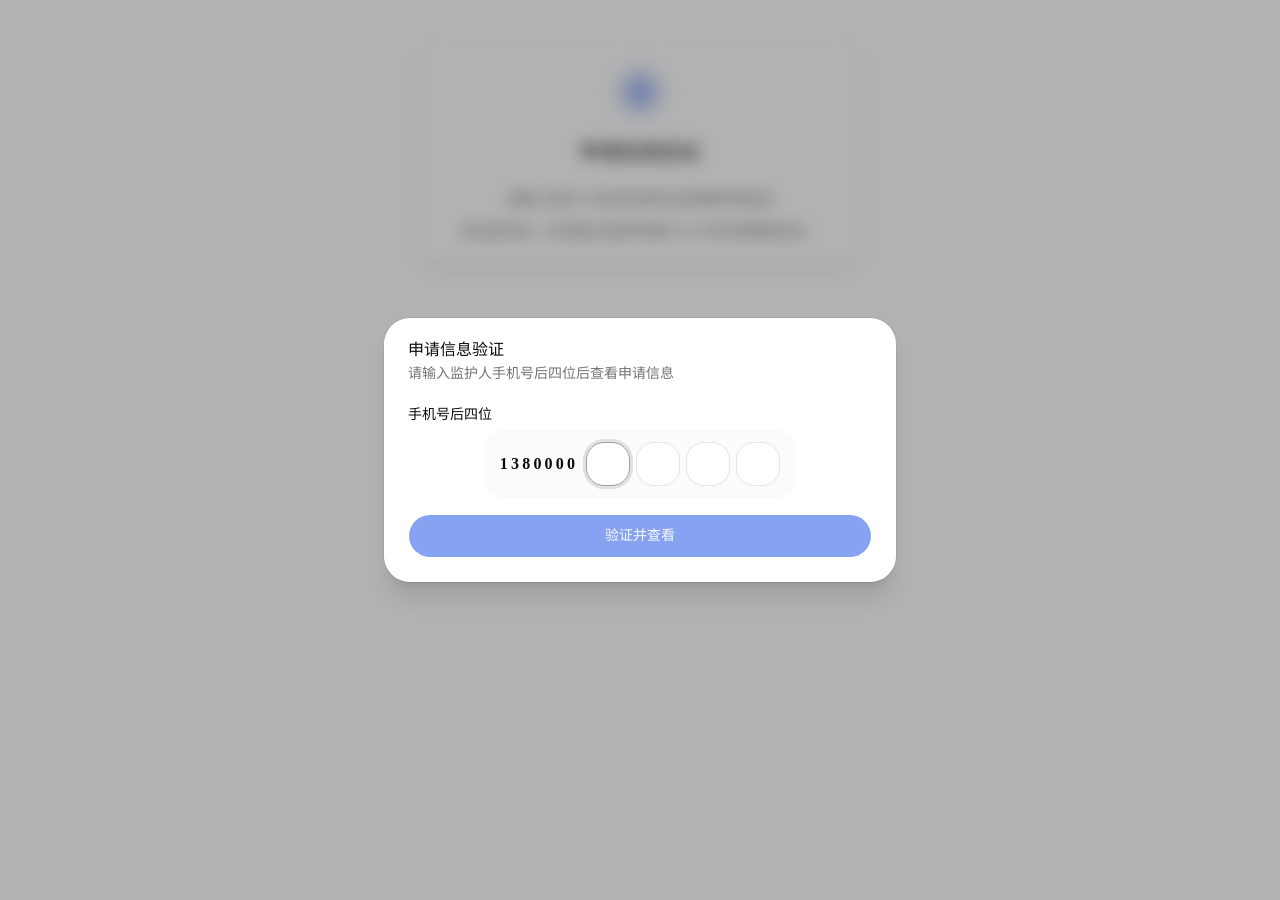
application access guard › enters a locked state after the server reports lockout
The image size is (1280, 900).
Type "0" into the field named "手机号后四位第 1 位".
click(608, 464); type("0")  # box [586, 442, 630, 486]
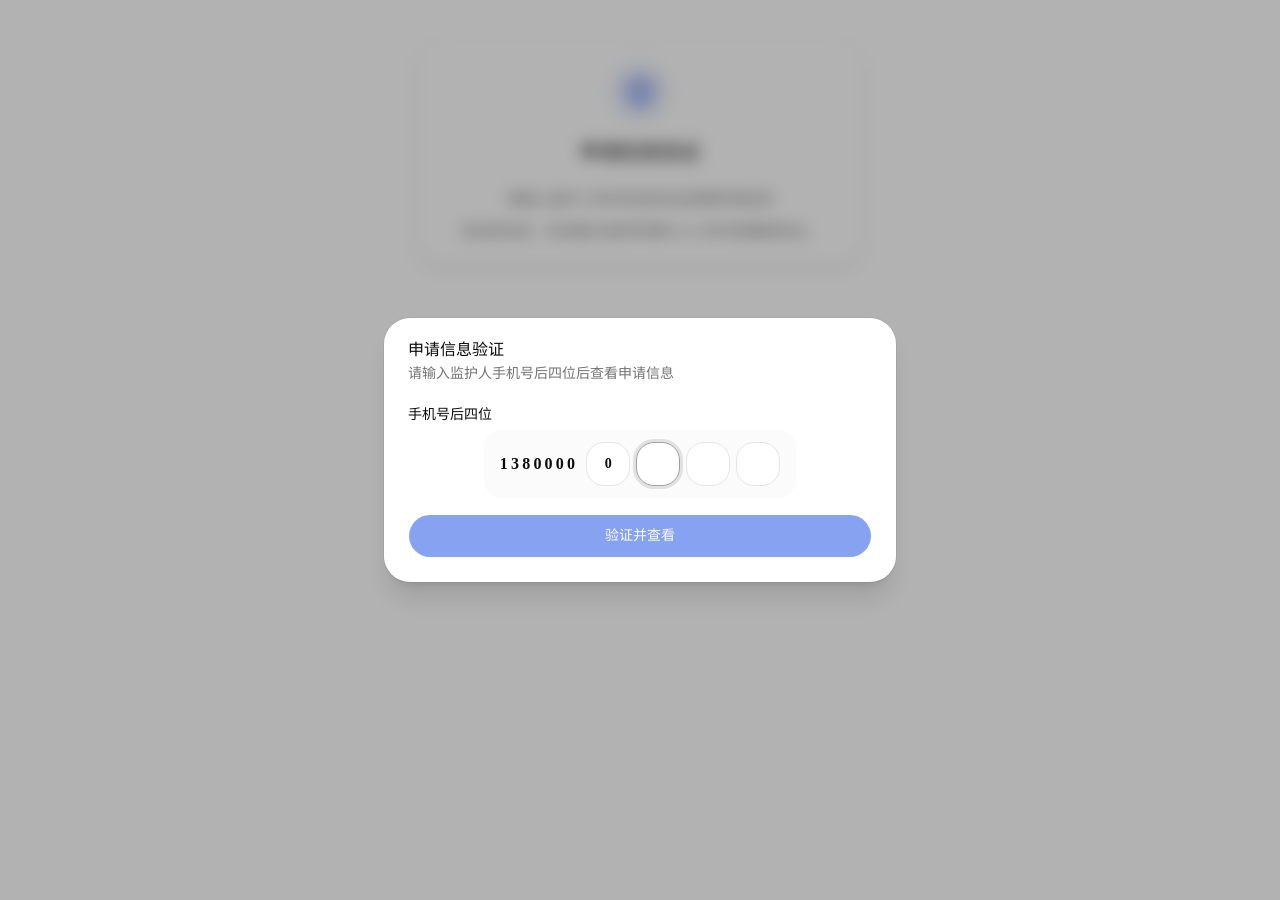
Type "0" into the field named "手机号后四位第 2 位".
click(658, 464); type("0")  # box [636, 442, 680, 486]
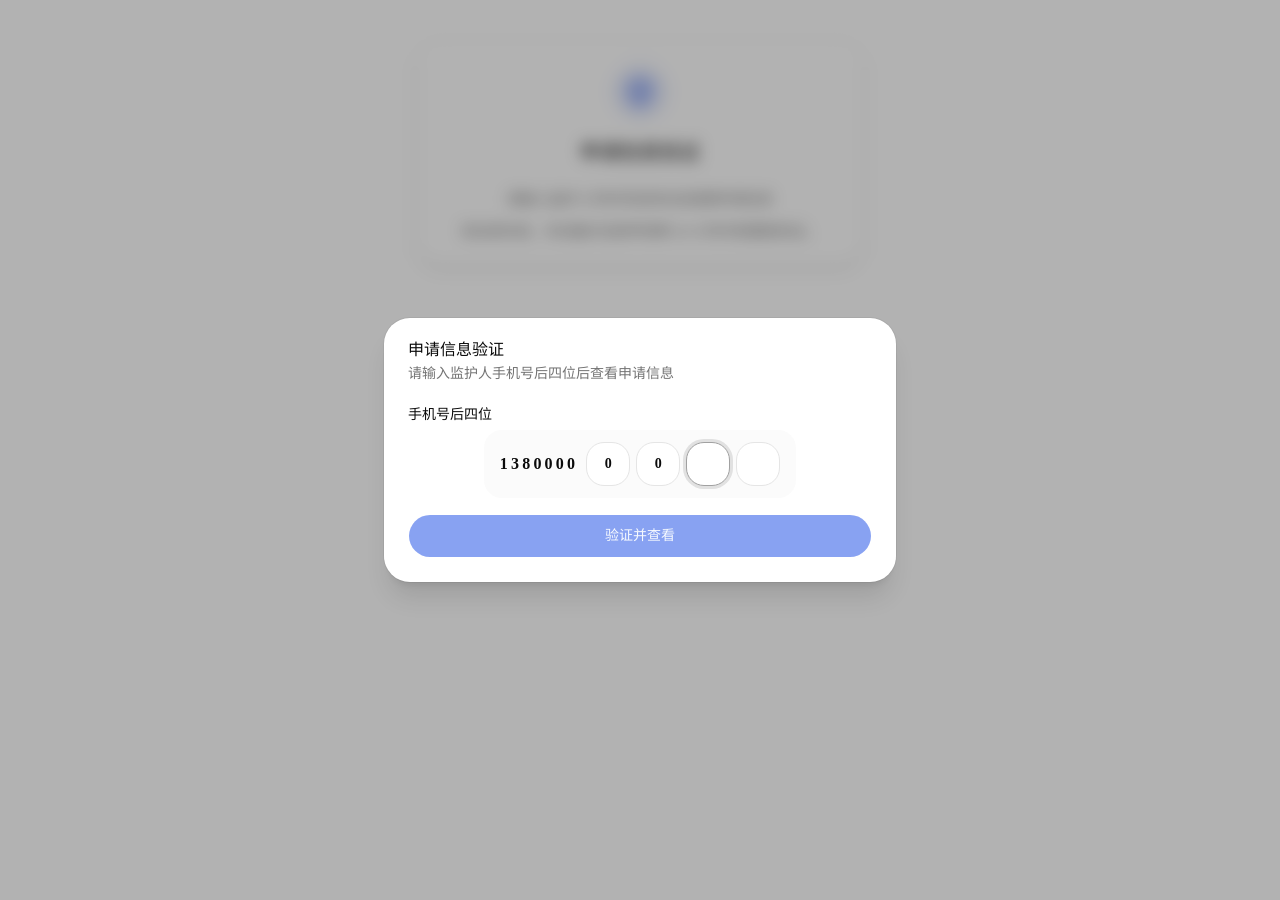
Type "0" into the field named "手机号后四位第 3 位".
click(708, 464); type("0")  # box [686, 442, 730, 486]
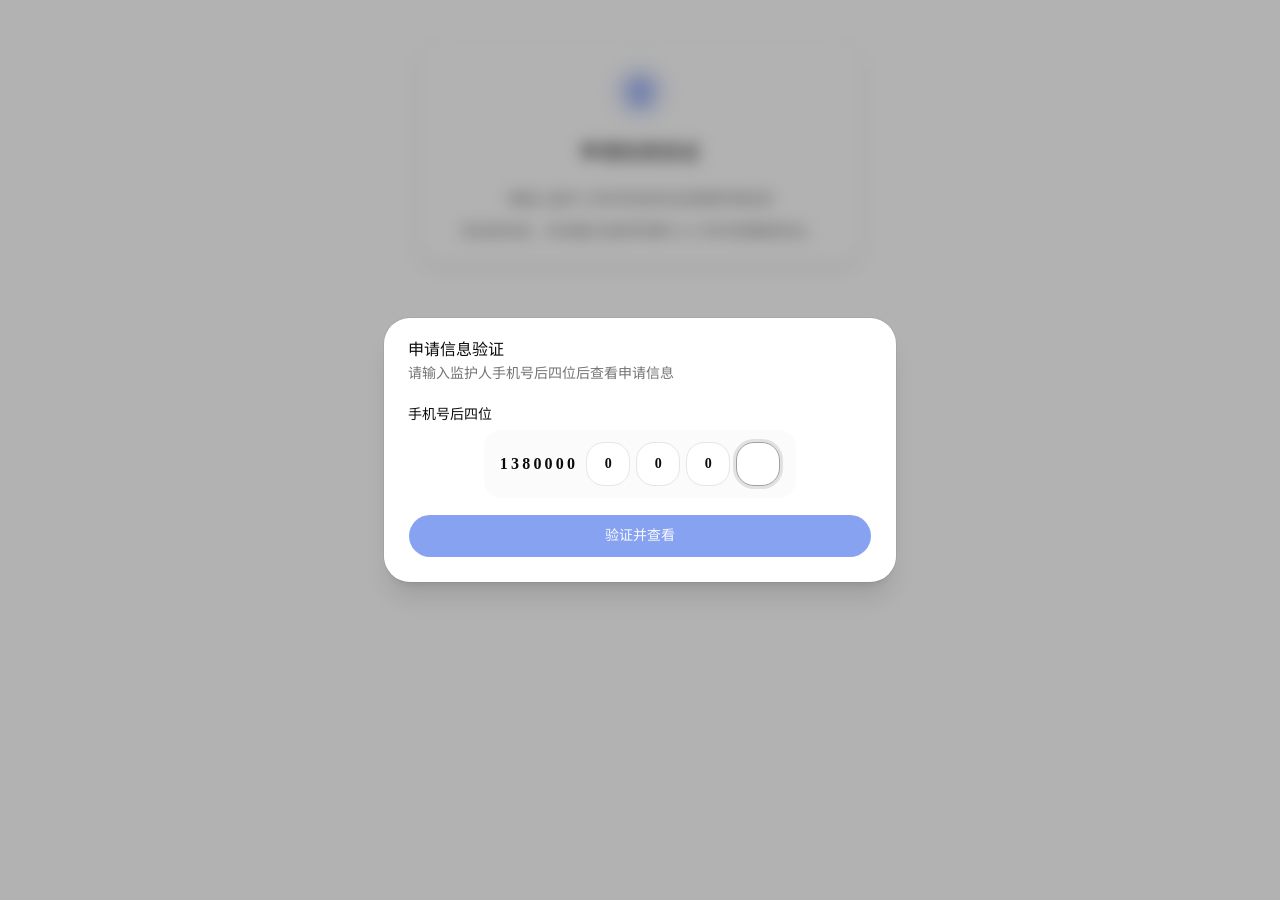
Type "0" into the field named "手机号后四位第 4 位".
click(758, 464); type("0")  # box [736, 442, 780, 486]
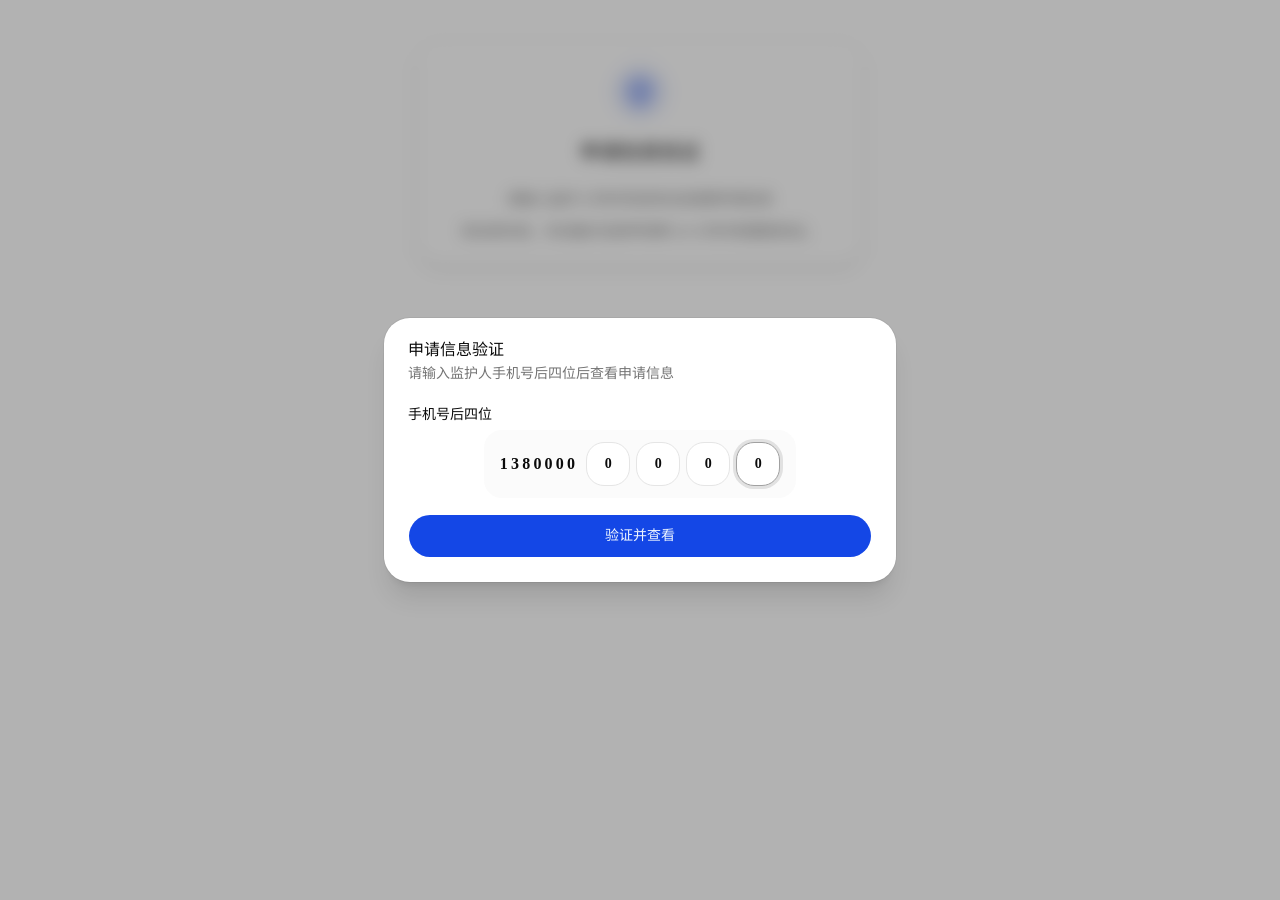
Click the button "验证并查看".
click(640, 536)  # box [408, 514, 872, 558]
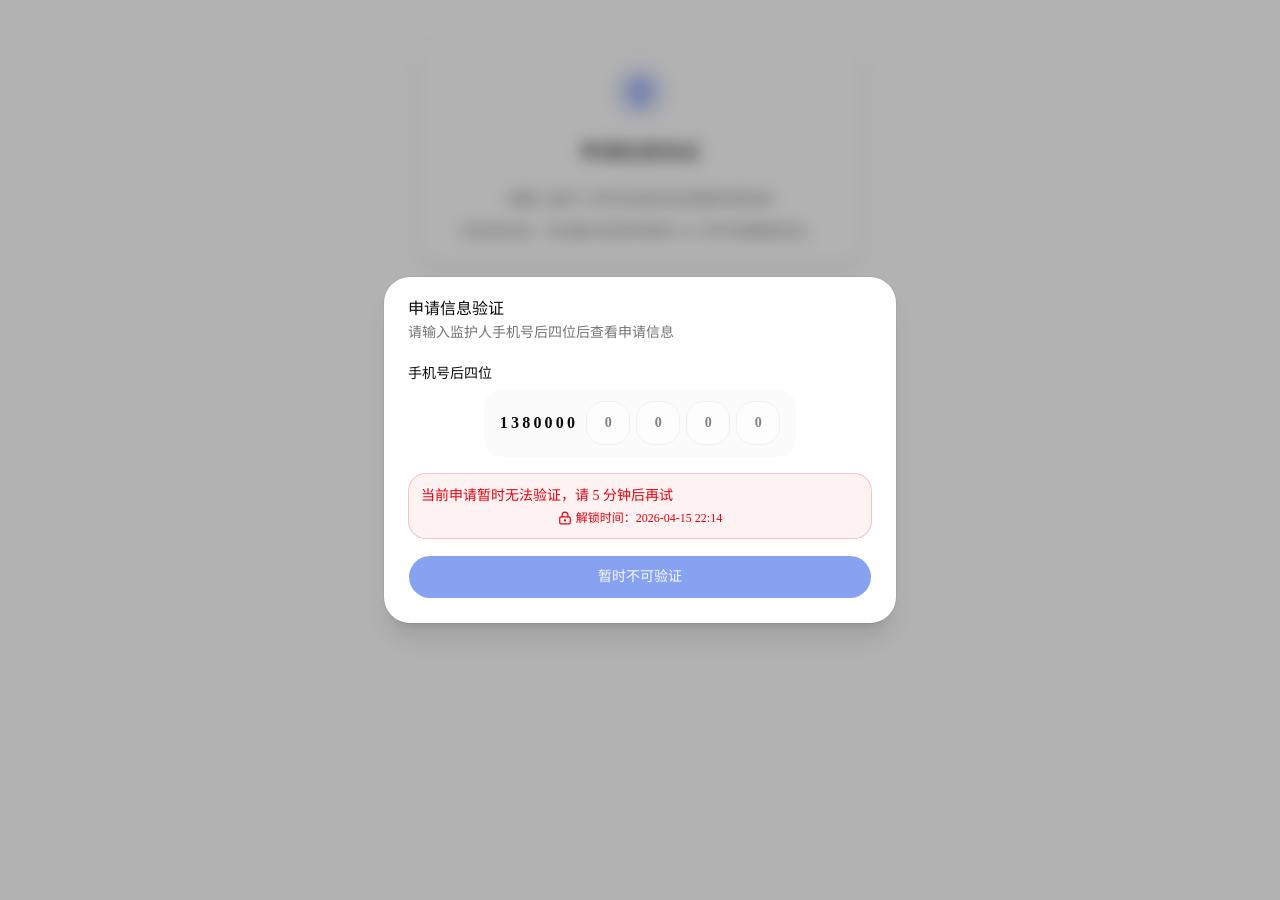
Expected: the text "当前申请暂时无法验证，请 5 分钟后再试" is shown, [421, 488, 673, 503]
Expected: the button "暂时不可验证" is disabled, [408, 555, 872, 599]
